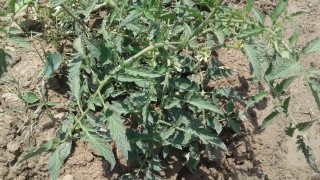tomato flower: (192, 45, 211, 66)
tomato plant: (86, 16, 183, 129)
